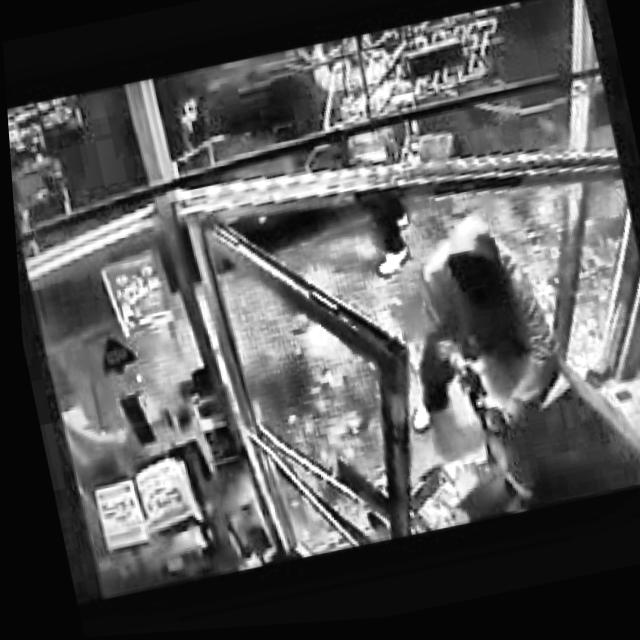burglary: (355, 143, 640, 539), (185, 44, 364, 200)
